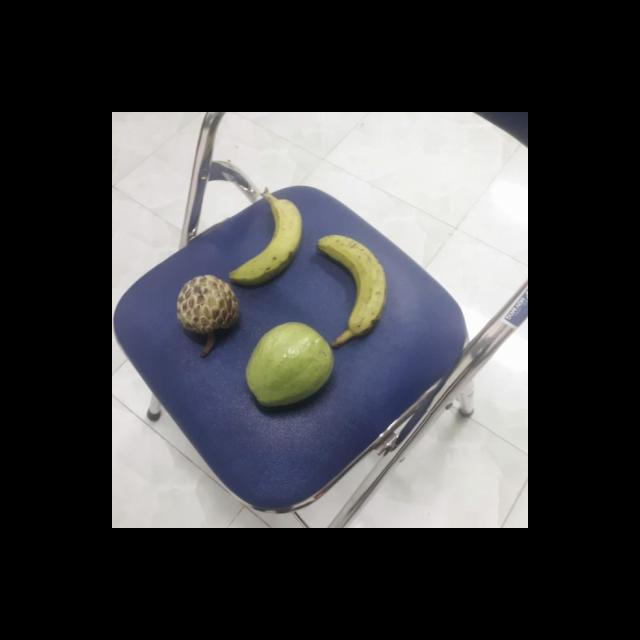Sakya fruit: (176, 275, 242, 351)
banana: (310, 233, 390, 336), (230, 192, 307, 284)
guava: (246, 324, 339, 411)
